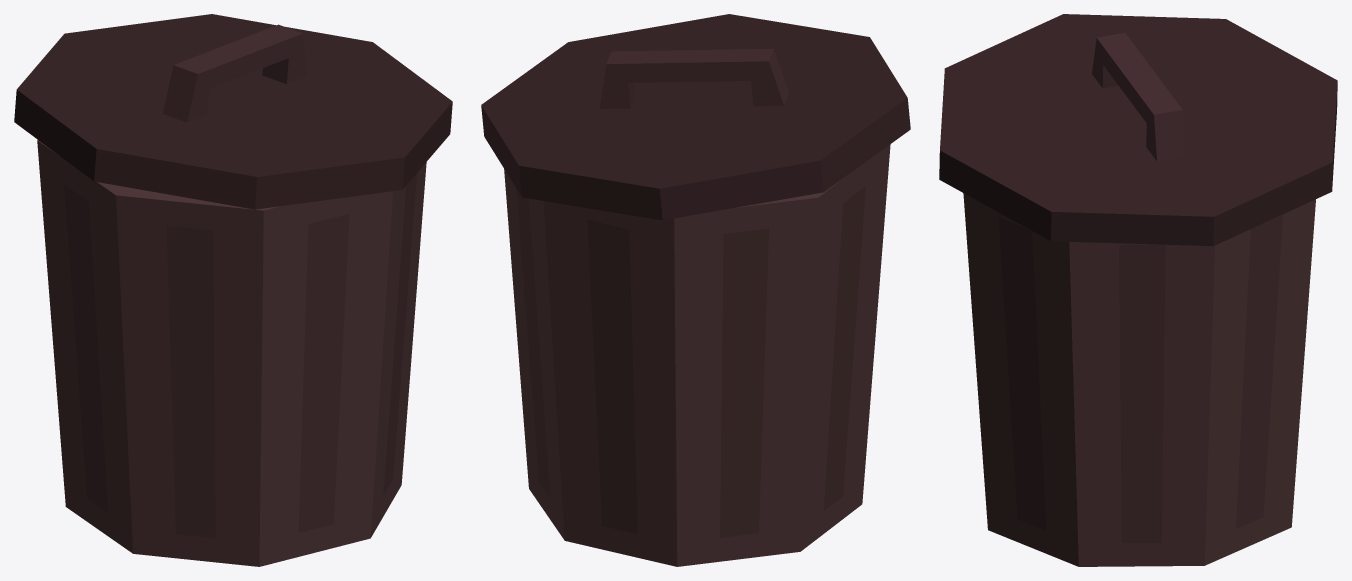
The model's file is TrashCan.fbx.
The picture shows the model from 3 angles, left to right: view 1: azimuth 30°, elevation 25°; view 2: azimuth 150°, elevation 25°; view 3: azimuth 270°, elevation 25°; orthographic projection. The views are drawn at different scales.
Parts seen in each view (by area): view 1: Cube.003; view 2: Cube.003; view 3: Cube.003.
Part boxes in pixels (x1,y1,x2,y2): Cube.003: (14, 14, 452, 566); Cube.003: (481, 14, 910, 566); Cube.003: (939, 14, 1337, 566).
Size of the model in its own units: 143 by 173 by 143.
